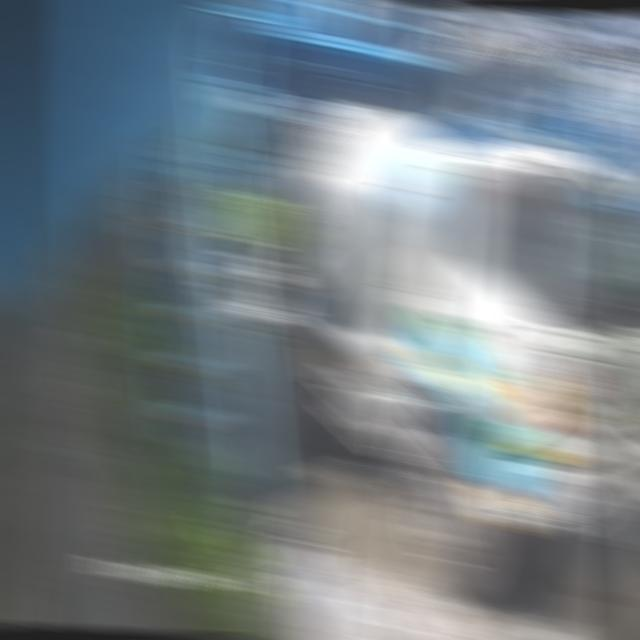cement_mixer_truck: (263, 102, 640, 596)
